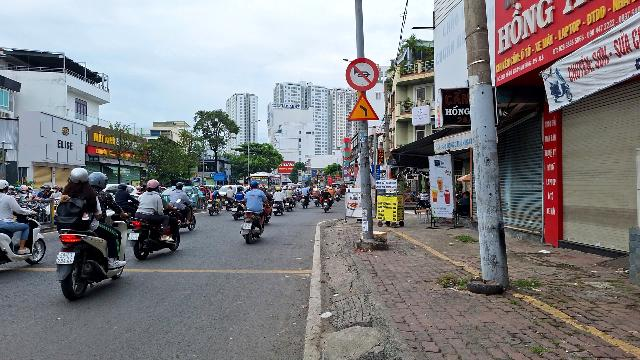cam-bop-coi: (345, 57, 378, 91)
cho-ngoat-nguy-hiem-ben-trai: (346, 93, 379, 121)
